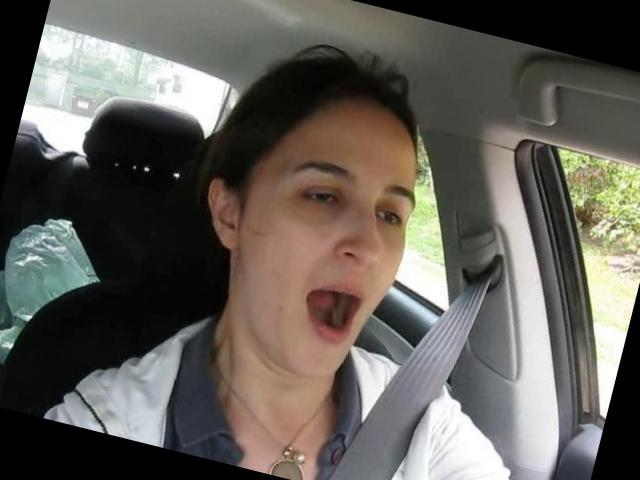eye_open: (288, 176, 352, 220), (369, 199, 412, 234)
face: (225, 132, 430, 399)
mouth_open: (292, 266, 372, 354)
